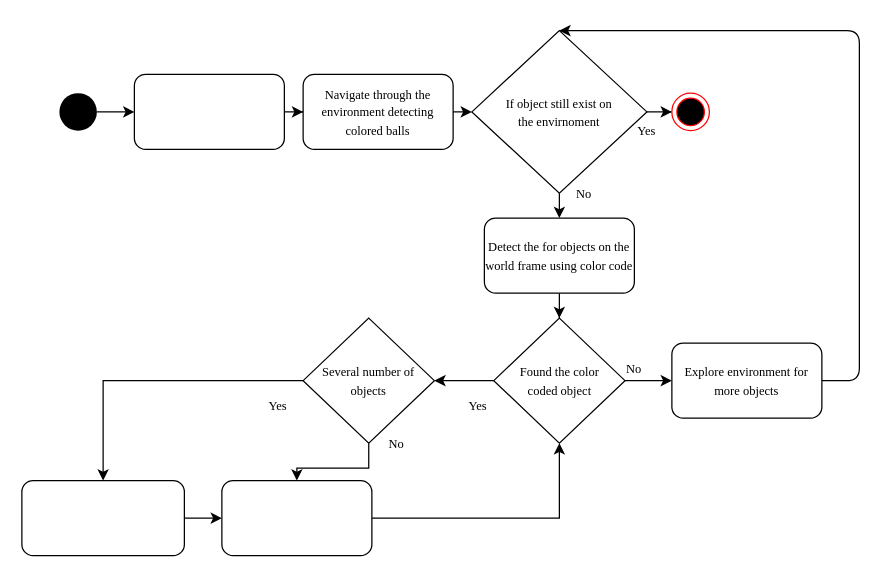
This 891x578 diagram has some shape labels left out. The centre of each missing label's shape, as x and y in pixels:
"Choose the closest object" goes at point (102, 517).
"Get the spawn point of the turtlebot in the world frame" goes at point (208, 111).
"Navigate to the color coded object" goes at point (296, 517).
